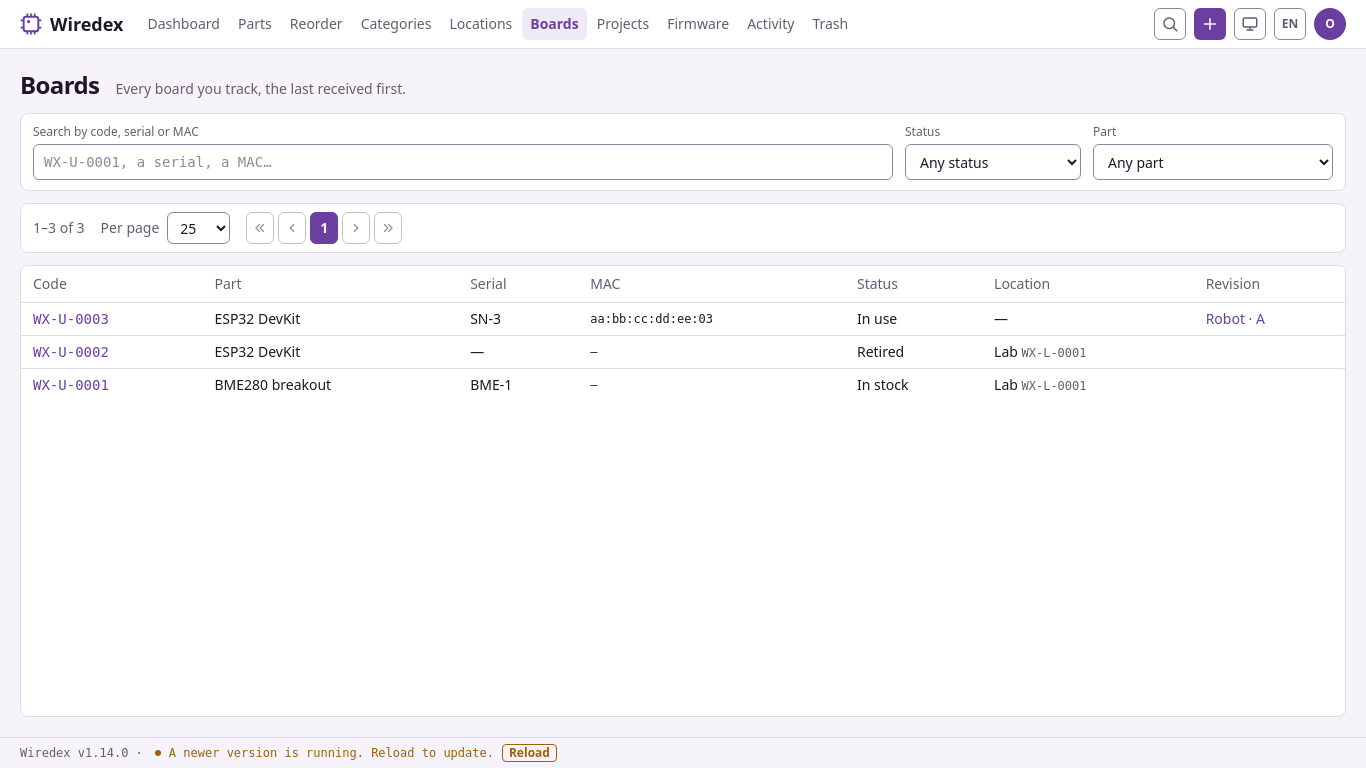
Scenario: BoardsPage › narrows by status and part, and clears them in one go
Select "Retired" in the dropdown labelled "Status". click: (993,162)
box: 905,144 -> 1081,180
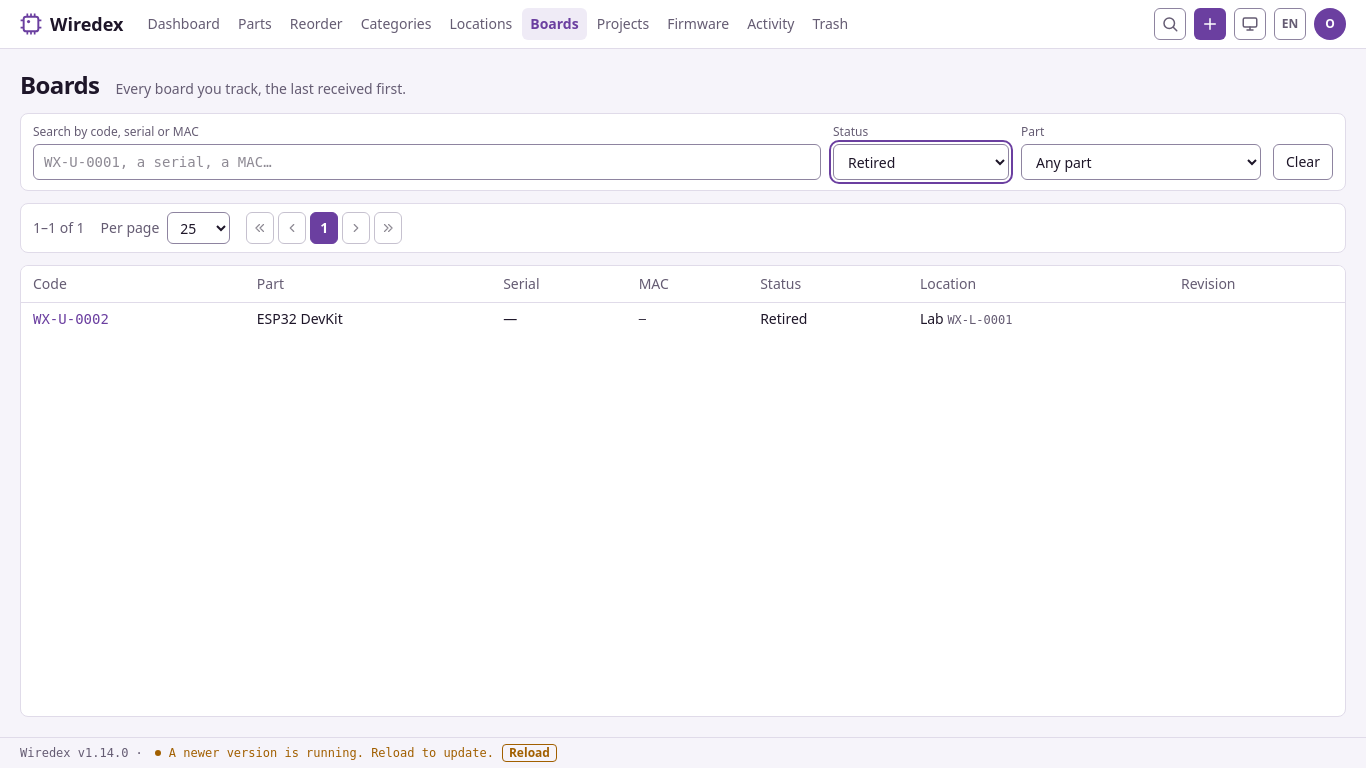
Select "Any status" in the dropdown labelled "Status". click: (921,162)
box: 833,144 -> 1009,180
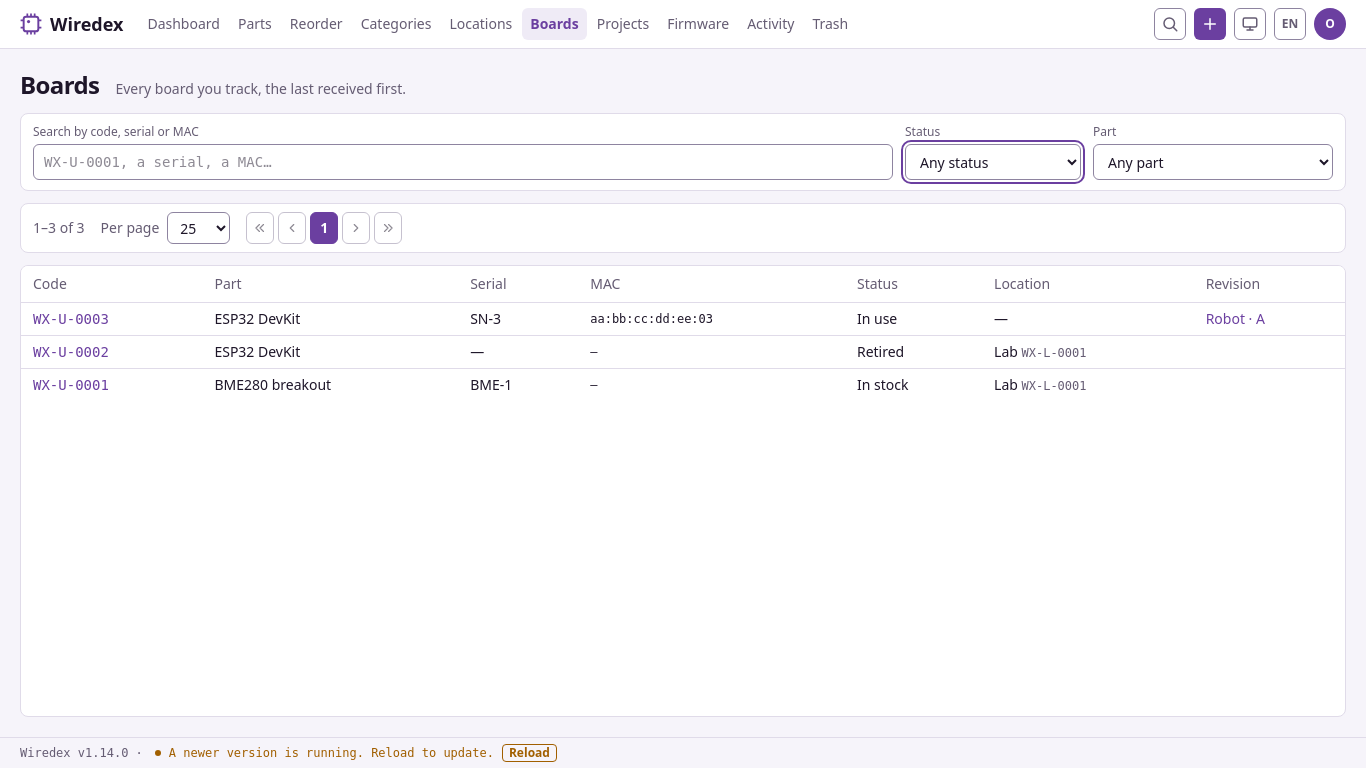
Select "BME280 breakout" in the dropdown labelled "Part". click: (1213,162)
box: 1093,144 -> 1333,180
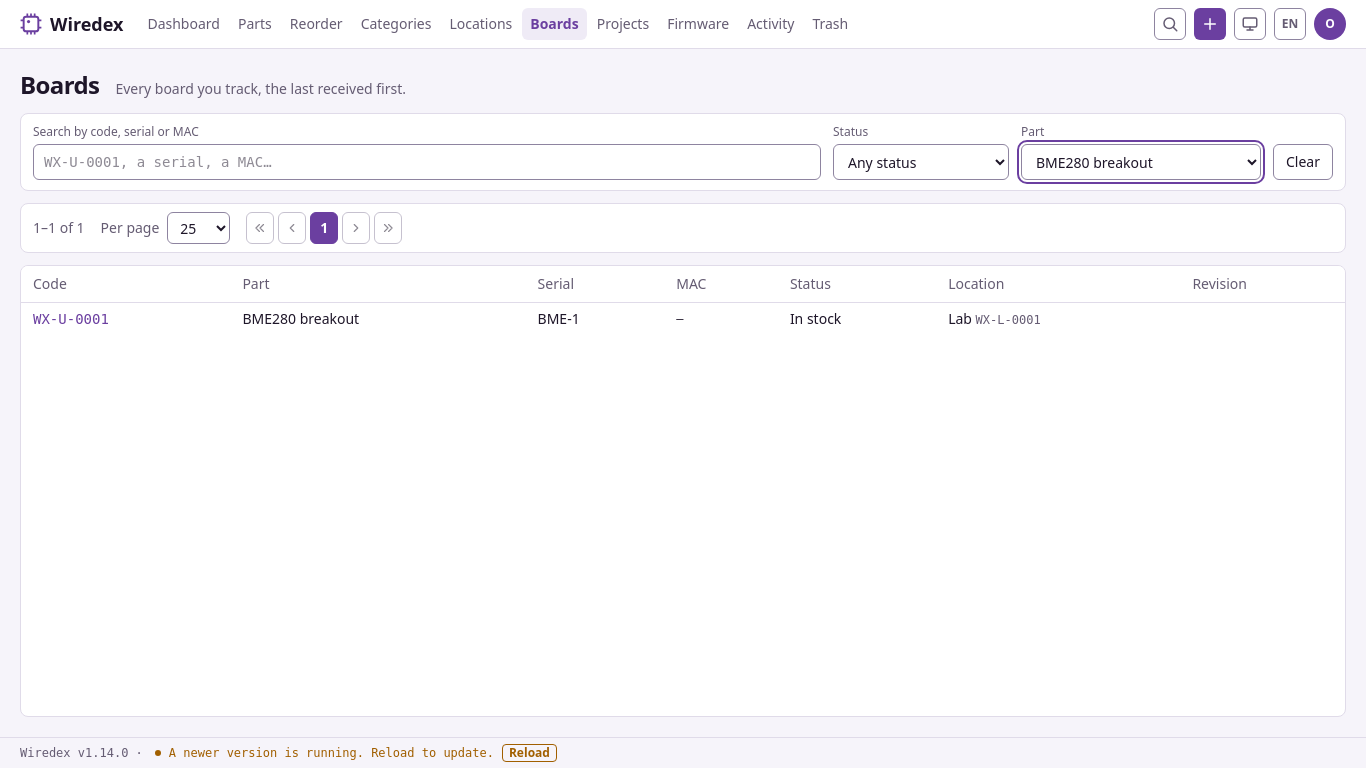
Click the button "Clear". click: (1303,162)
box: 1273,144 -> 1333,180
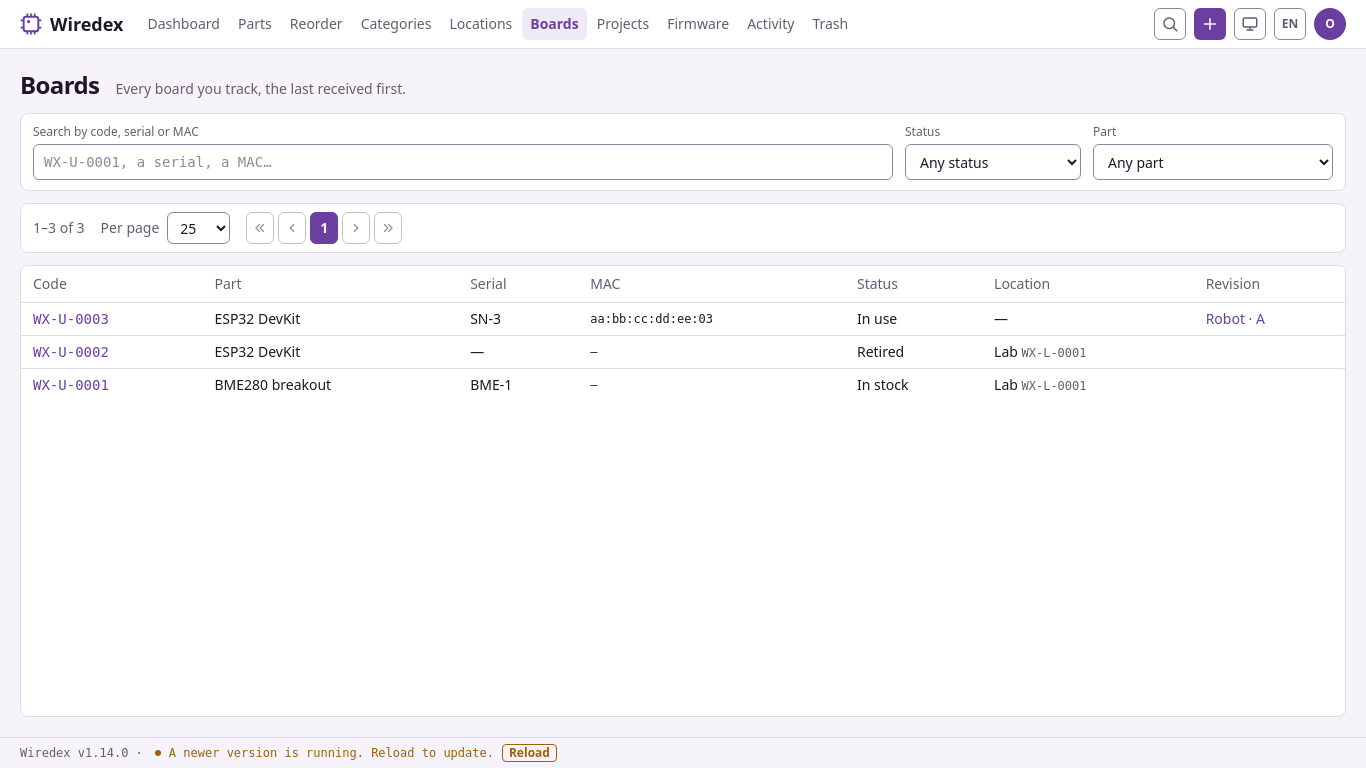
Now the button "Clear" is gone
